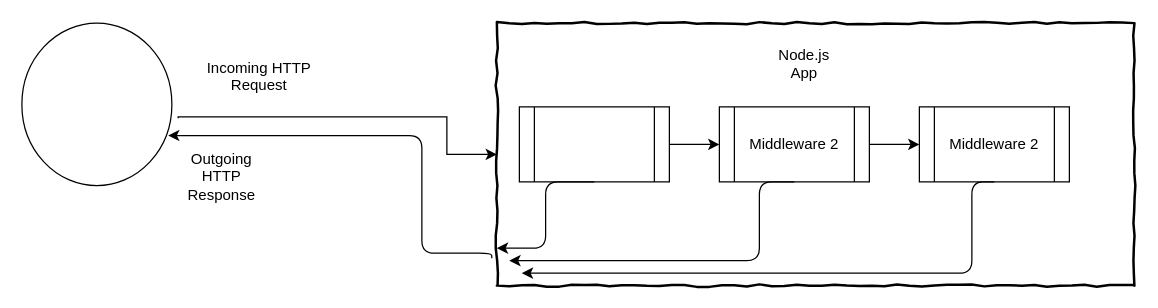
The diagram is 1158 pixels wide and 308 high, and some of its shapes have lost their labels. Here are the shapes that lost their labels. From the top down, the centre of each, then its label:
At (96,104): "Client".
At (593,144): "Middleware 1".
